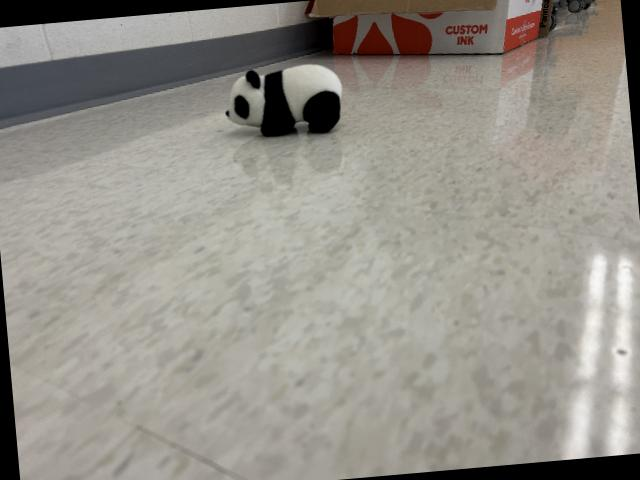panda_plushie: (223, 62, 344, 137)
